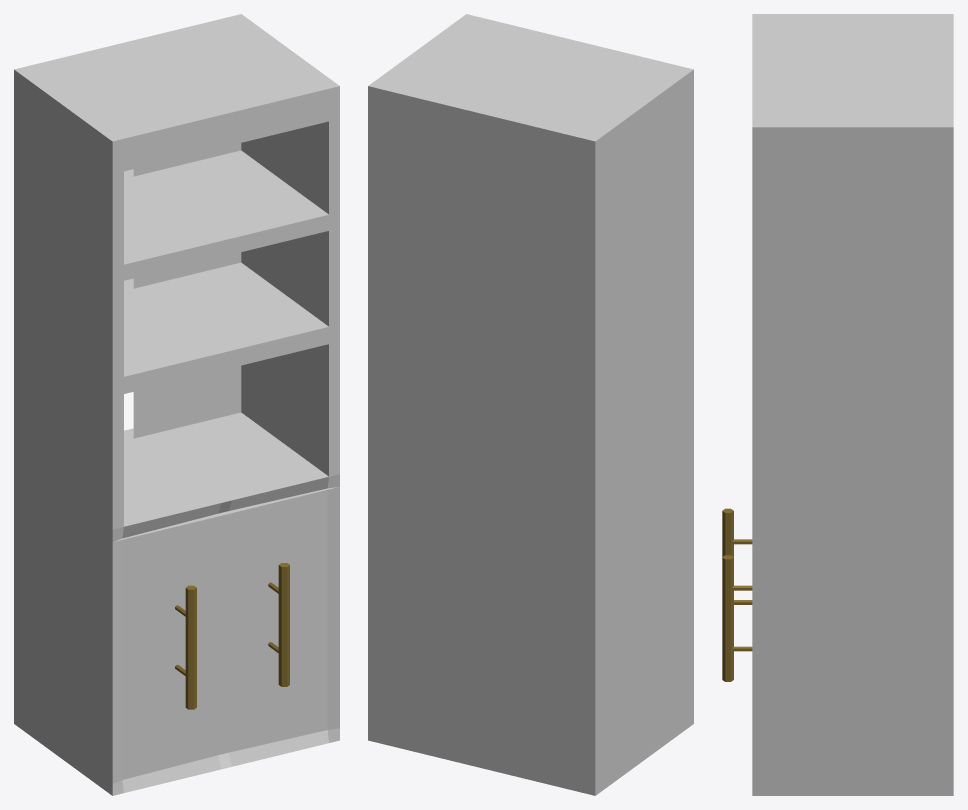
File: collection_basic_tall_cabinet.glb
The picture shows the model from 3 angles, left to right: view 1: azimuth 30°, elevation 25°; view 2: azimuth 150°, elevation 25°; view 3: azimuth 270°, elevation 25°; orthographic projection. The views are drawn at different scales.
Parts seen in each view (by area): view 1: Cabinet; view 2: Cabinet; view 3: Cabinet.
Boxes of the visible parts, x1,y1,x2,y2 form: Cabinet: [14, 14, 339, 795]; Cabinet: [368, 14, 693, 795]; Cabinet: [722, 14, 953, 795].
Bounding box in the file's own units: 1.6 × 4.4 × 1.38.
